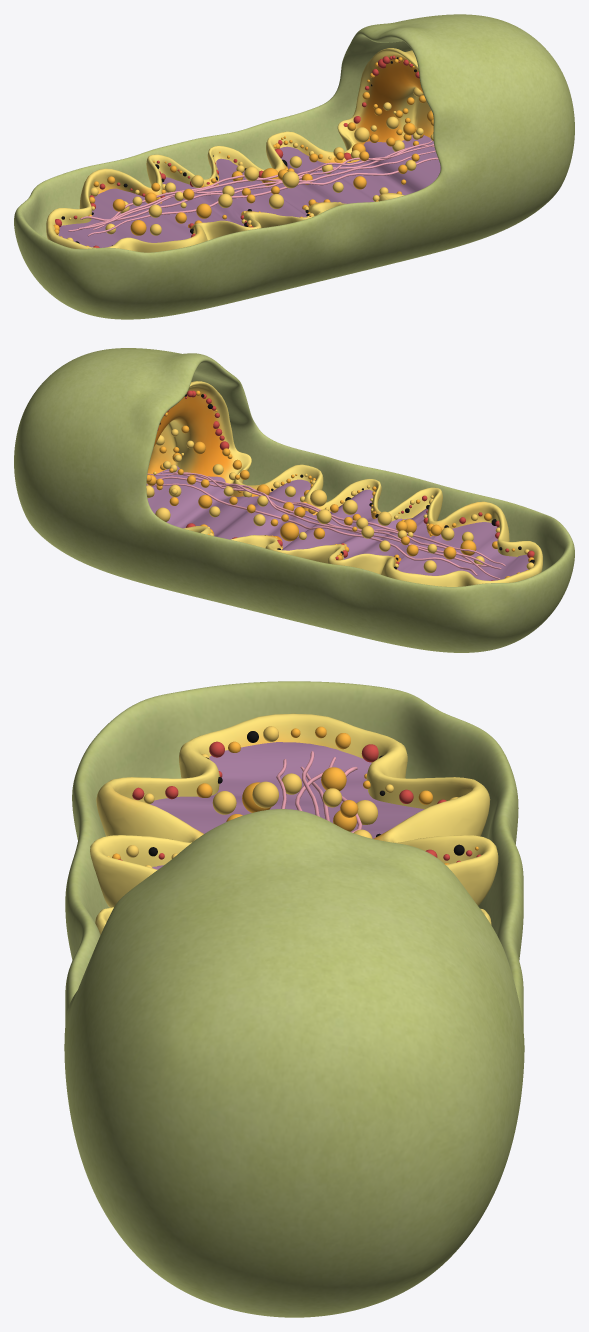
The model's file is mitochondria.glb.
3 views of the same model, one above another, from view 1: azimuth 30°, elevation 25°; view 2: azimuth 150°, elevation 25°; view 3: azimuth 270°, elevation 25° (orthographic). The views are drawn at different scales.
Parts seen in each view (by area): view 1: Object_3, Object_2, Object_5, Object_6, Object_4; view 2: Object_2, Object_3, Object_6, Object_5, Object_4; view 3: Object_3, Object_2, Object_6, Object_5, Object_4.
Part boxes in pixels (x1,y1,x2,y2): Object_3: (14, 14, 574, 319); Object_2: (17, 28, 442, 253); Object_5: (49, 16, 573, 316); Object_6: (47, 48, 433, 252); Object_4: (53, 55, 435, 247); Object_2: (15, 356, 571, 647); Object_3: (14, 348, 574, 642); Object_6: (146, 381, 542, 585); Object_5: (79, 350, 541, 652); Object_4: (146, 390, 534, 580); Object_3: (64, 693, 524, 1317); Object_2: (70, 681, 524, 1274); Object_6: (90, 718, 498, 934); Object_5: (112, 728, 479, 1161); Object_4: (113, 726, 480, 867).
Size of the model in its own units: 28.34 by 11.17 by 10.74.
5 materials, 5 textured.
